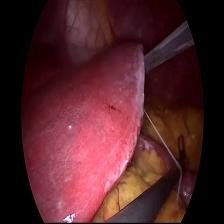Grasper: (175, 130, 194, 176)
